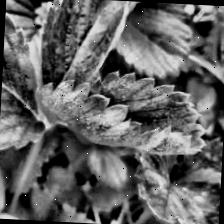Powdery Mildew Leaf: (32, 64, 212, 158), (35, 0, 150, 93), (130, 150, 222, 224)
